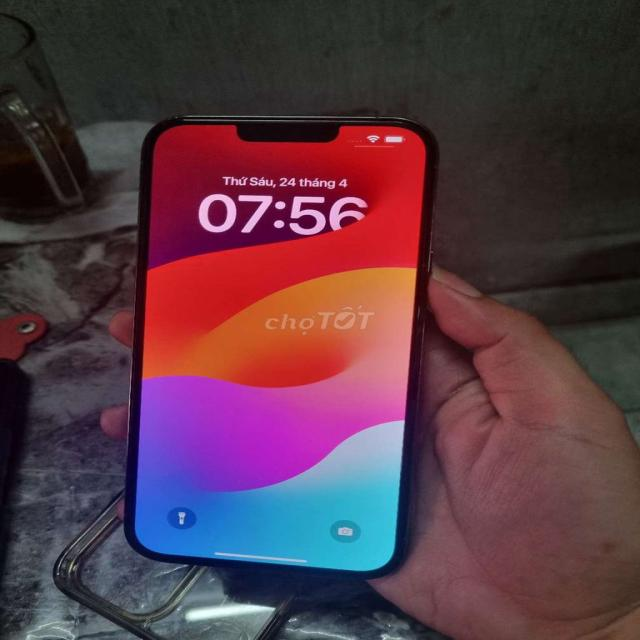gen_12_13: (119, 113, 441, 586)
